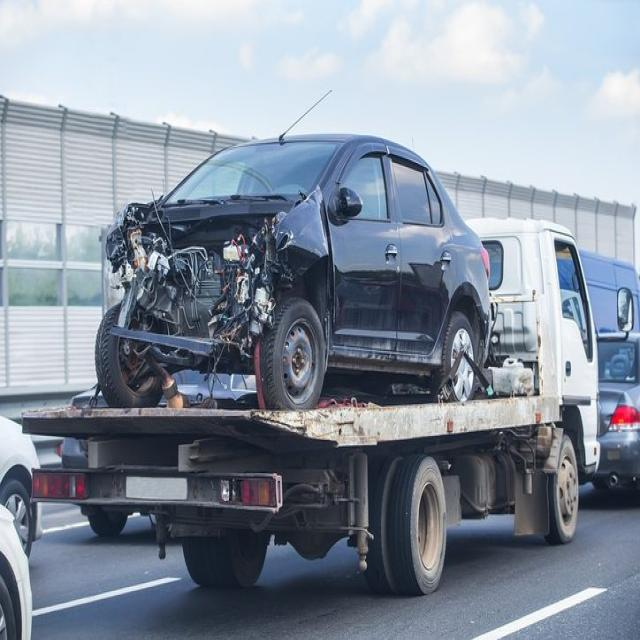Accident: (96, 123, 498, 409)
